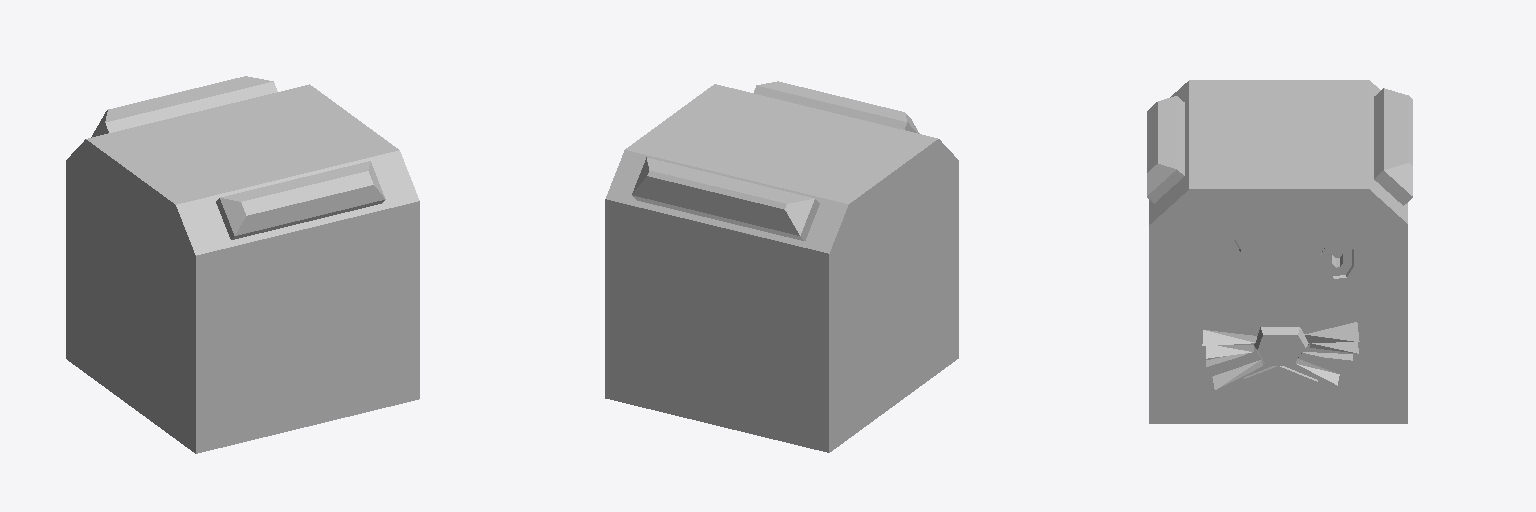
Rendered from Cat.obj.
The picture shows the model from 3 angles: view 1: azimuth 30°, elevation 25°; view 2: azimuth 150°, elevation 25°; view 3: azimuth 270°, elevation 25°; orthographic projection.
Visible parts, largest first — view 1: Cube; view 2: Cube; view 3: Cube.
Boxes of the visible parts, x1,y1,x2,y2 form: Cube: [66, 76, 419, 453]; Cube: [605, 81, 958, 452]; Cube: [1147, 80, 1412, 423].
Size of the model in its own units: 2.24 by 2.04 by 2.06.